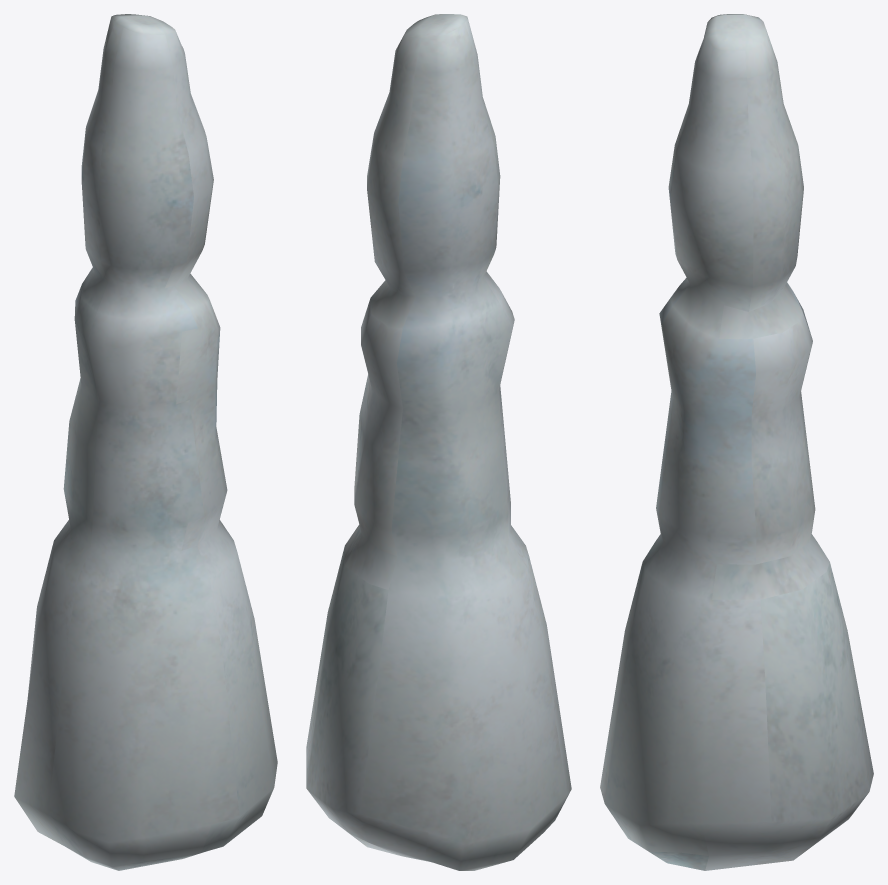
Rendered from P_RockDesert_HoodooCliff03.obj.
3 renders of one model, left to right at view 1: azimuth 30°, elevation 25°; view 2: azimuth 150°, elevation 25°; view 3: azimuth 270°, elevation 25°, orthographic.
Size of the model in its own units: 16.6 by 58.11 by 17.41.
